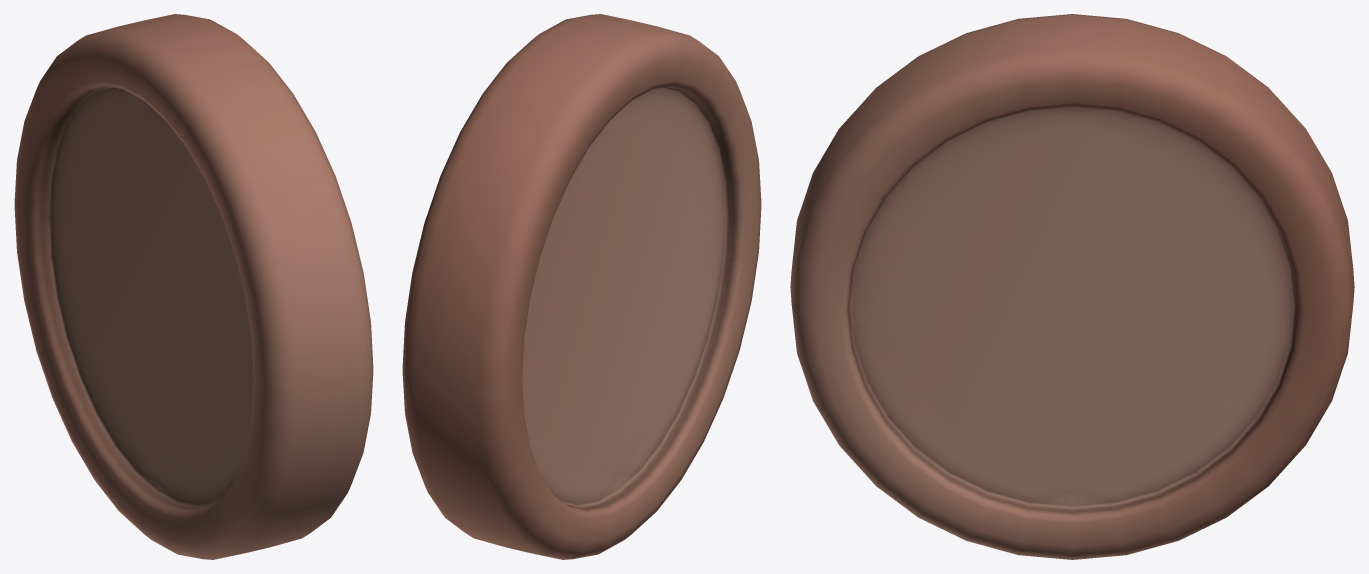
File: coin-bronze1.fbx
3 renders of one model, left to right at view 1: azimuth 30°, elevation 25°; view 2: azimuth 150°, elevation 25°; view 3: azimuth 270°, elevation 25°, orthographic. The views are drawn at different scales.
Parts seen in each view (by area): view 1: coin-LP-bronze1; view 2: coin-LP-bronze1; view 3: coin-LP-bronze1.
Boxes of the visible parts, bbox=[...] form: coin-LP-bronze1: bbox=[14, 14, 373, 559]; coin-LP-bronze1: bbox=[402, 14, 761, 559]; coin-LP-bronze1: bbox=[790, 14, 1354, 559].
Bounding box in the file's own units: 0.0598 × 0.2673 × 0.2673.
1 material, 1 textured.
